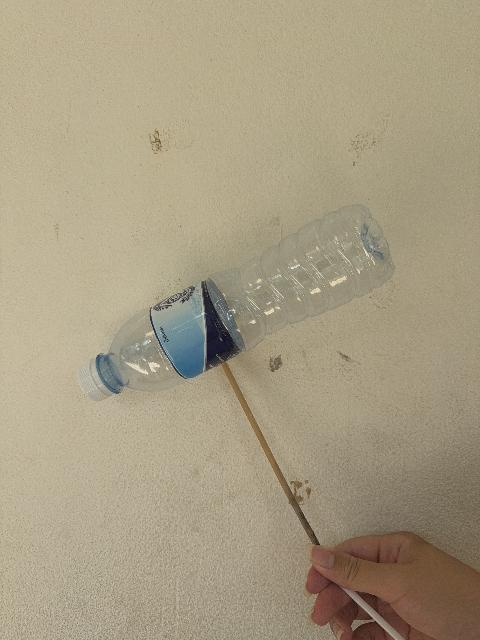bottle: (78, 205, 394, 400)
